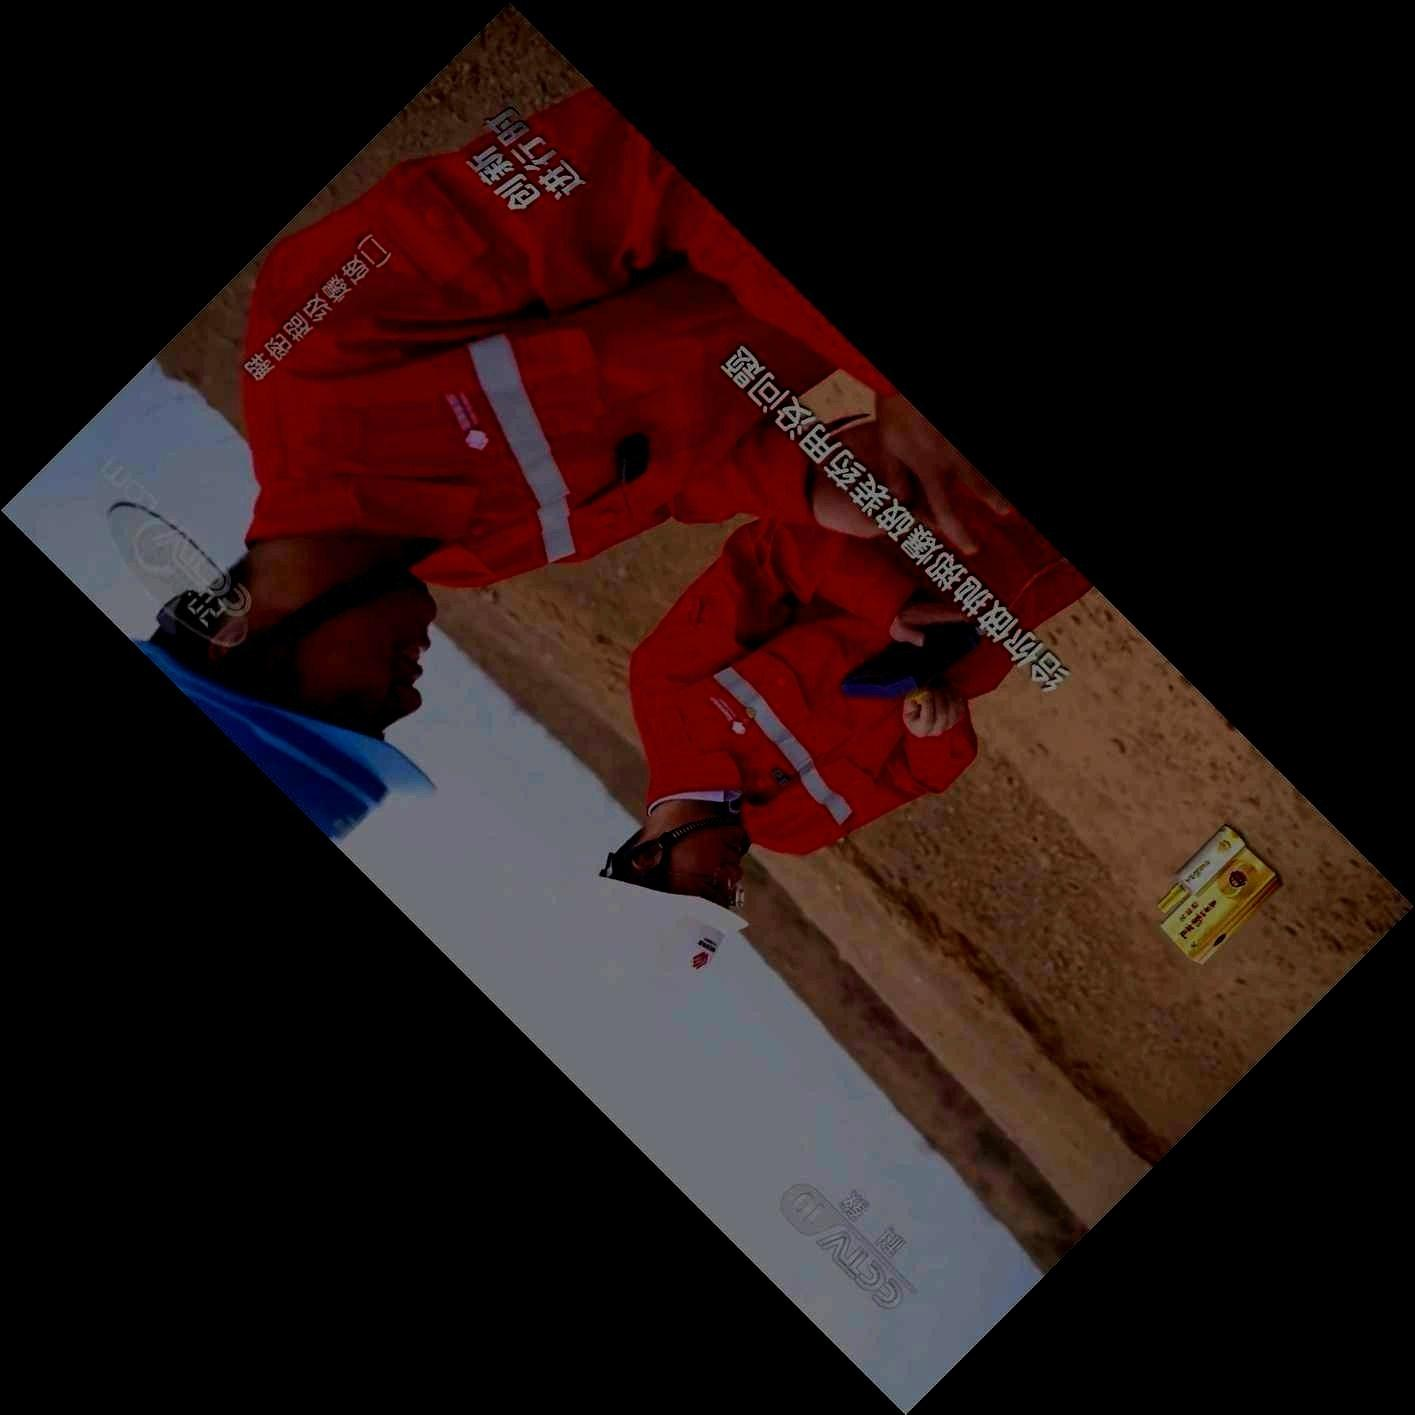helmet: (130, 573, 437, 845), (591, 818, 750, 990)
